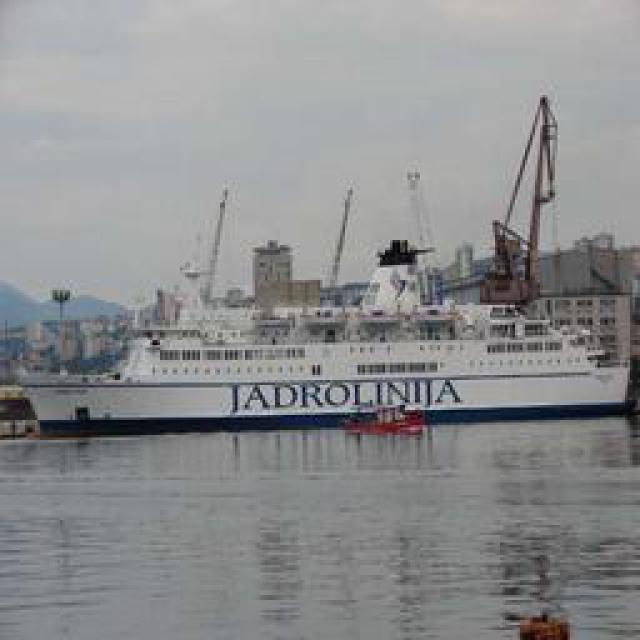Ship: (6, 97, 626, 425)
